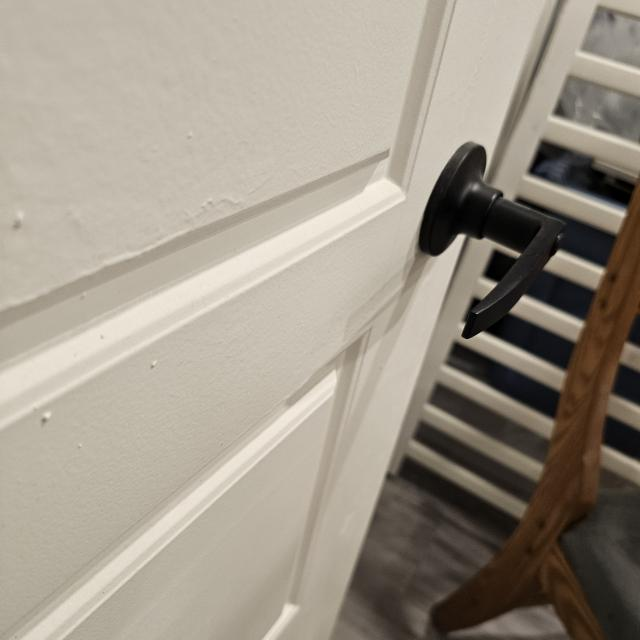door-handle: (419, 142, 564, 339)
